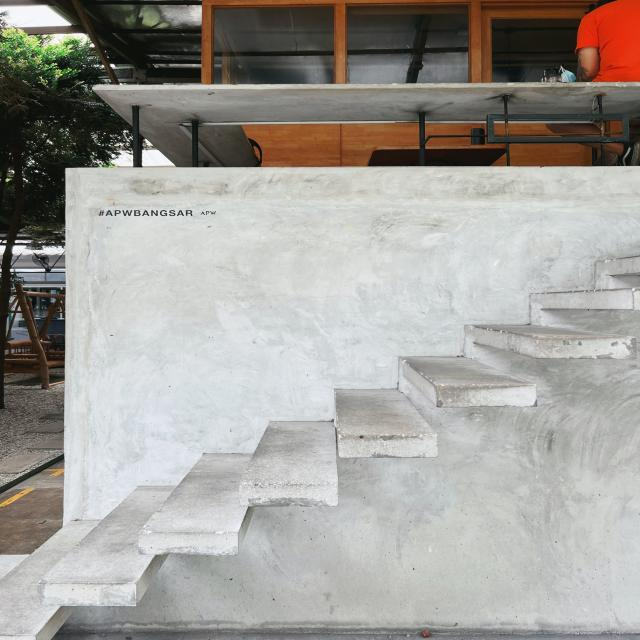Concrete: (0, 166, 640, 640)
